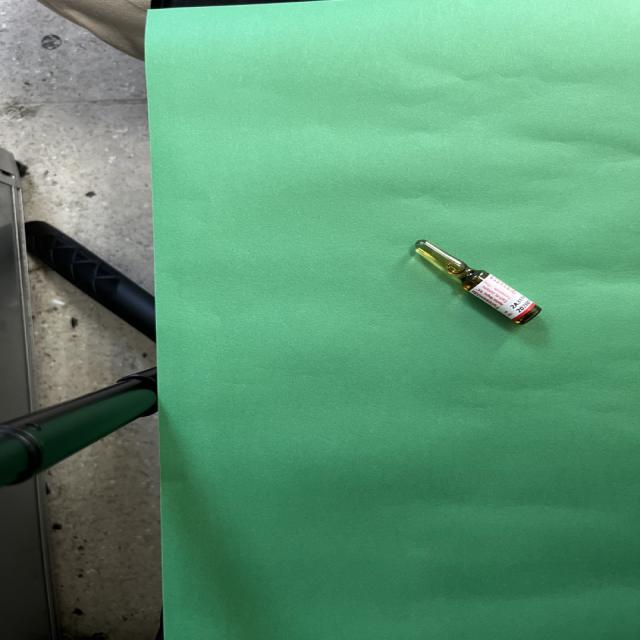Ampoules: (415, 240, 542, 326)
